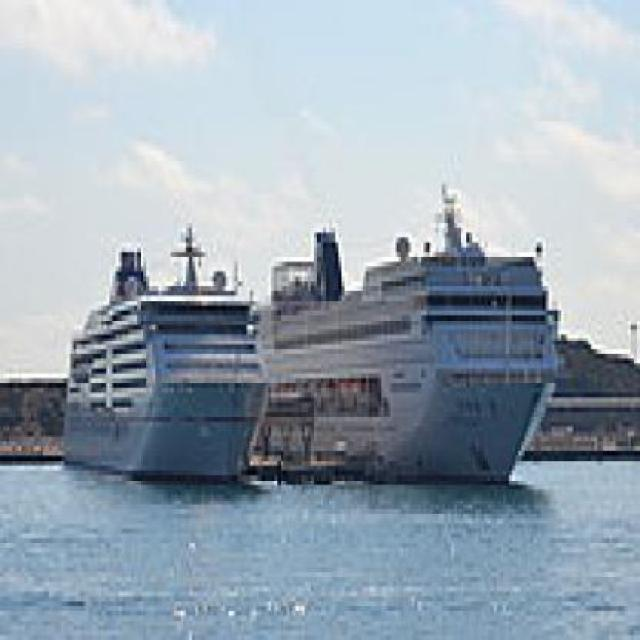cruise: (251, 175, 571, 506), (43, 210, 279, 496)
